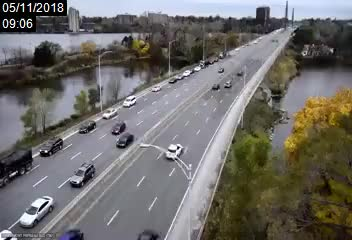personal_car: (20, 196, 54, 229), (70, 162, 96, 188), (38, 137, 65, 157), (115, 132, 135, 149), (166, 143, 183, 161), (58, 229, 84, 240), (78, 120, 97, 135), (135, 229, 159, 240), (110, 121, 127, 135), (122, 95, 137, 108), (102, 107, 117, 120), (211, 83, 220, 91), (223, 80, 231, 89), (175, 72, 183, 80), (168, 77, 176, 84), (152, 85, 160, 92), (237, 69, 244, 76), (218, 67, 224, 74)
truck: (1, 146, 32, 188)
